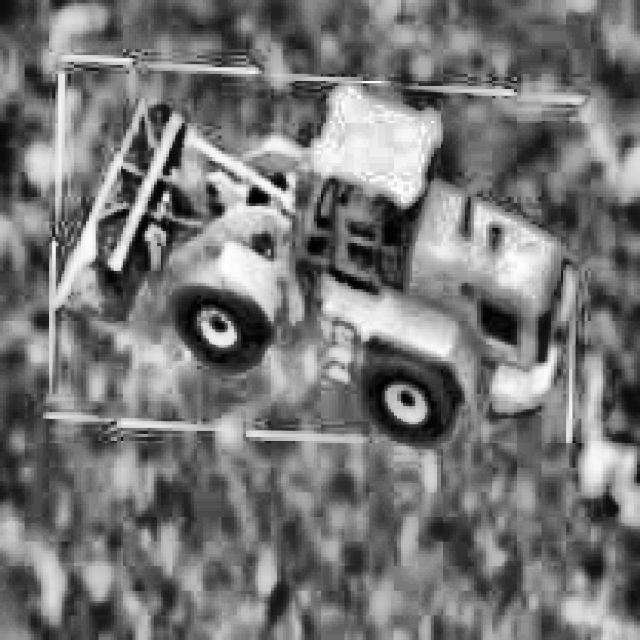buldozerpayloadergrader: (52, 64, 578, 462)
